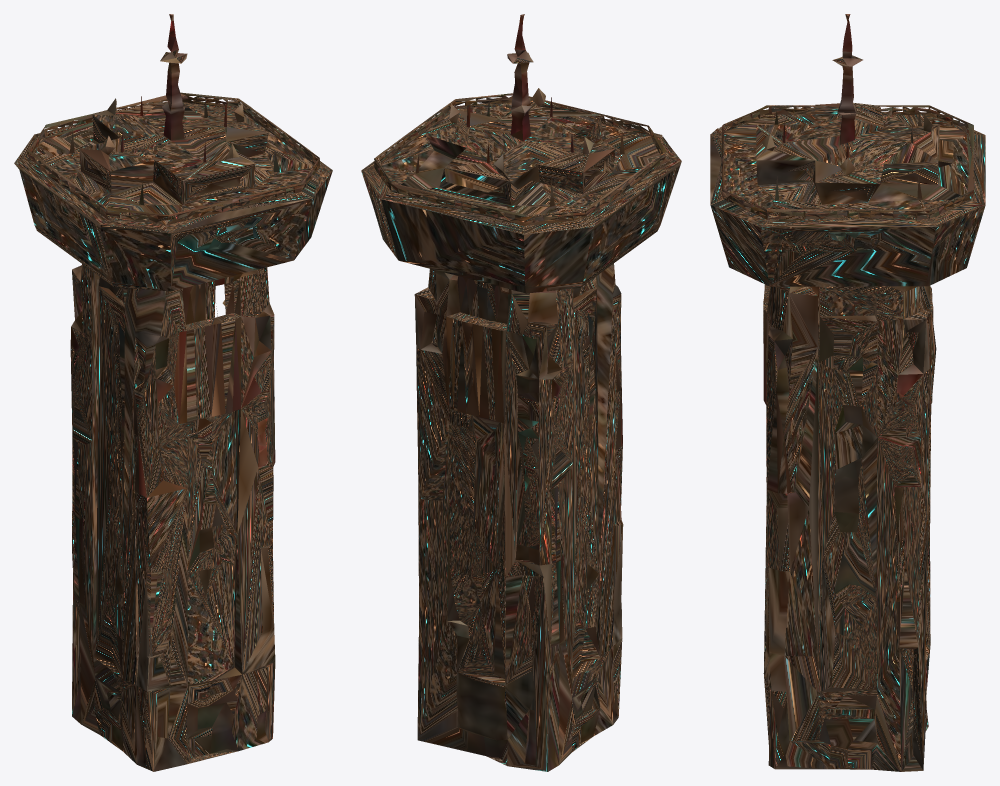
The model's file is h02_far.glb.
The picture shows the model from 3 angles, left to right: view 1: azimuth 30°, elevation 25°; view 2: azimuth 150°, elevation 25°; view 3: azimuth 270°, elevation 25°; orthographic projection.
Parts seen in each view (by area): view 1: h02_far; view 2: h02_far; view 3: h02_far.
Boxes of the visible parts, box(x1,y1,x2,y2) form: h02_far: box(14, 14, 332, 771); h02_far: box(361, 14, 681, 771); h02_far: box(710, 14, 985, 771).
Bounding box in the file's own units: 19.07 × 56 × 19.29.
Materials: 1 (1 with a texture image).
